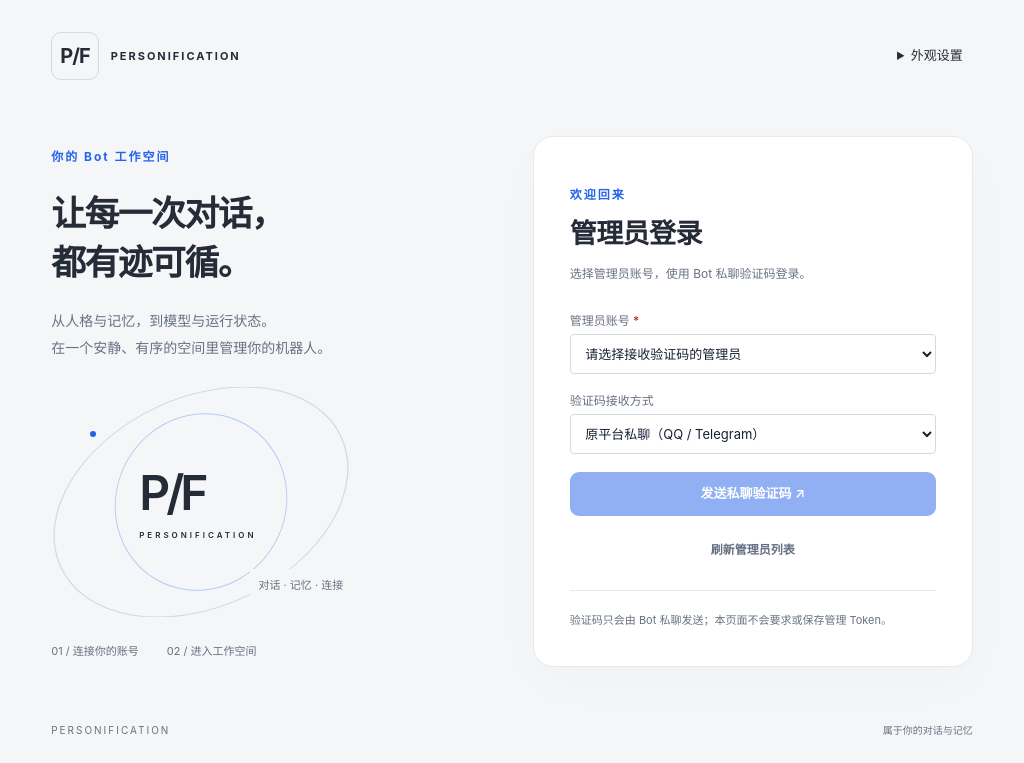
Test: 认证入口 › 匿名管理员可选择账号并进入验证码步骤
Step 1. Select "QQ 10001 · 插件管理员" in the dropdown labelled "管理员账号 *" → (753, 354), box [570,334,936,374]
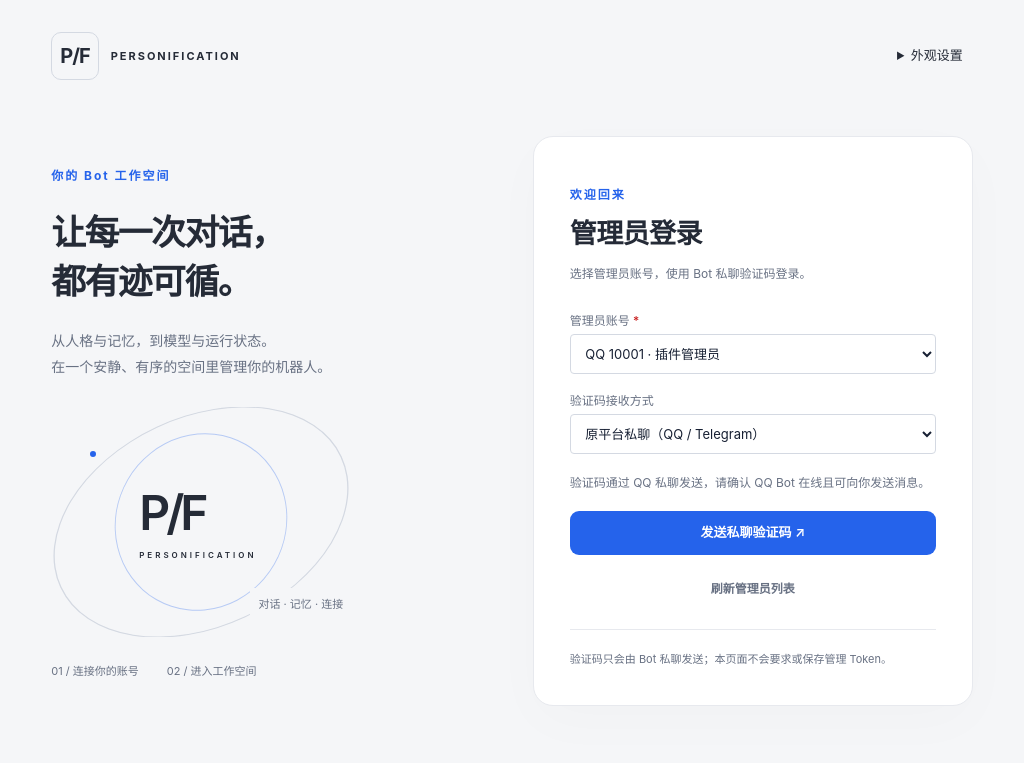
Step 2. Submit the form from the submit button, box [570,510,936,554]
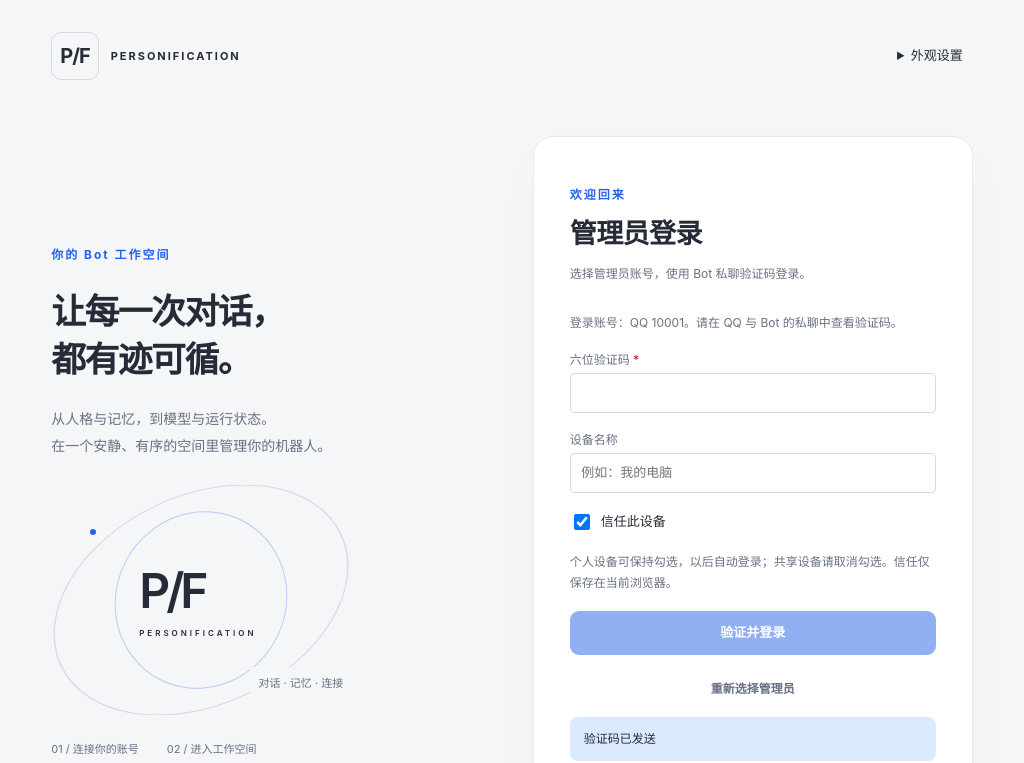
Result: the text "六位验证码" is shown at [570,352,630,366]
